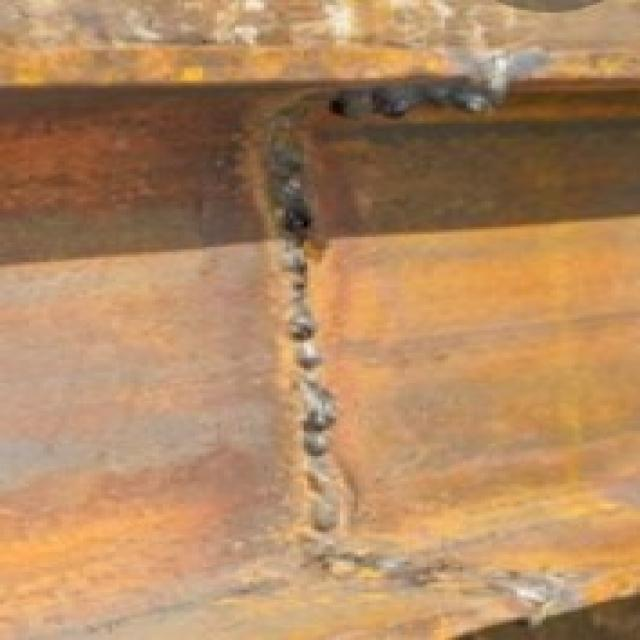Bad Welding: (249, 106, 358, 570)
